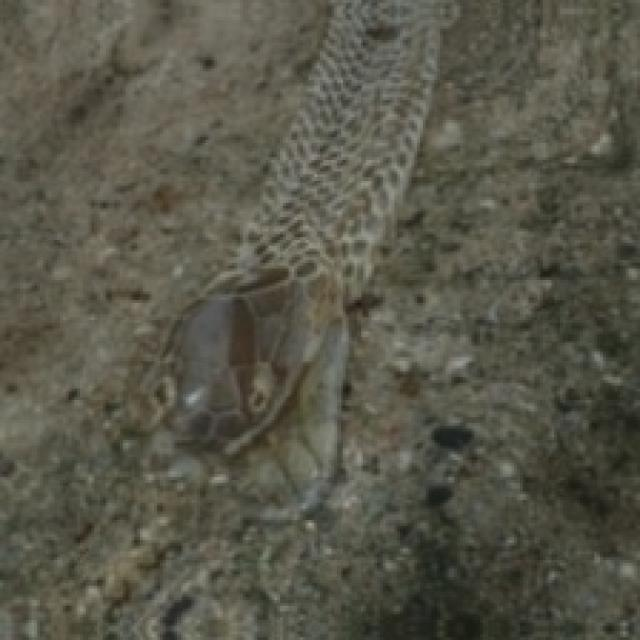king cobra: (140, 0, 454, 454)
